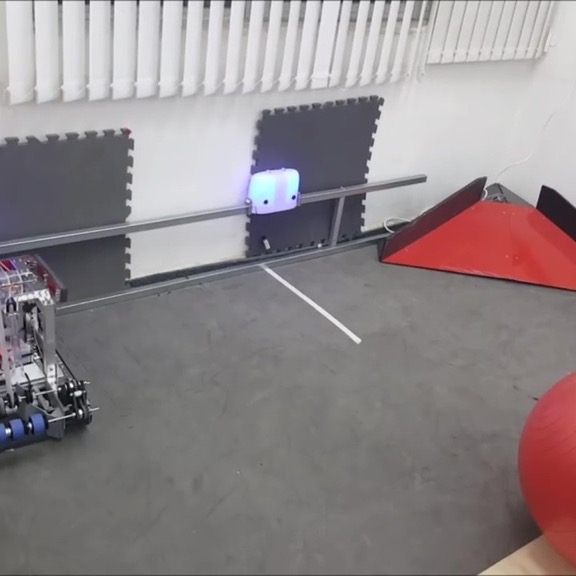robot: (0, 247, 104, 457)
yogaball: (515, 368, 576, 571)
